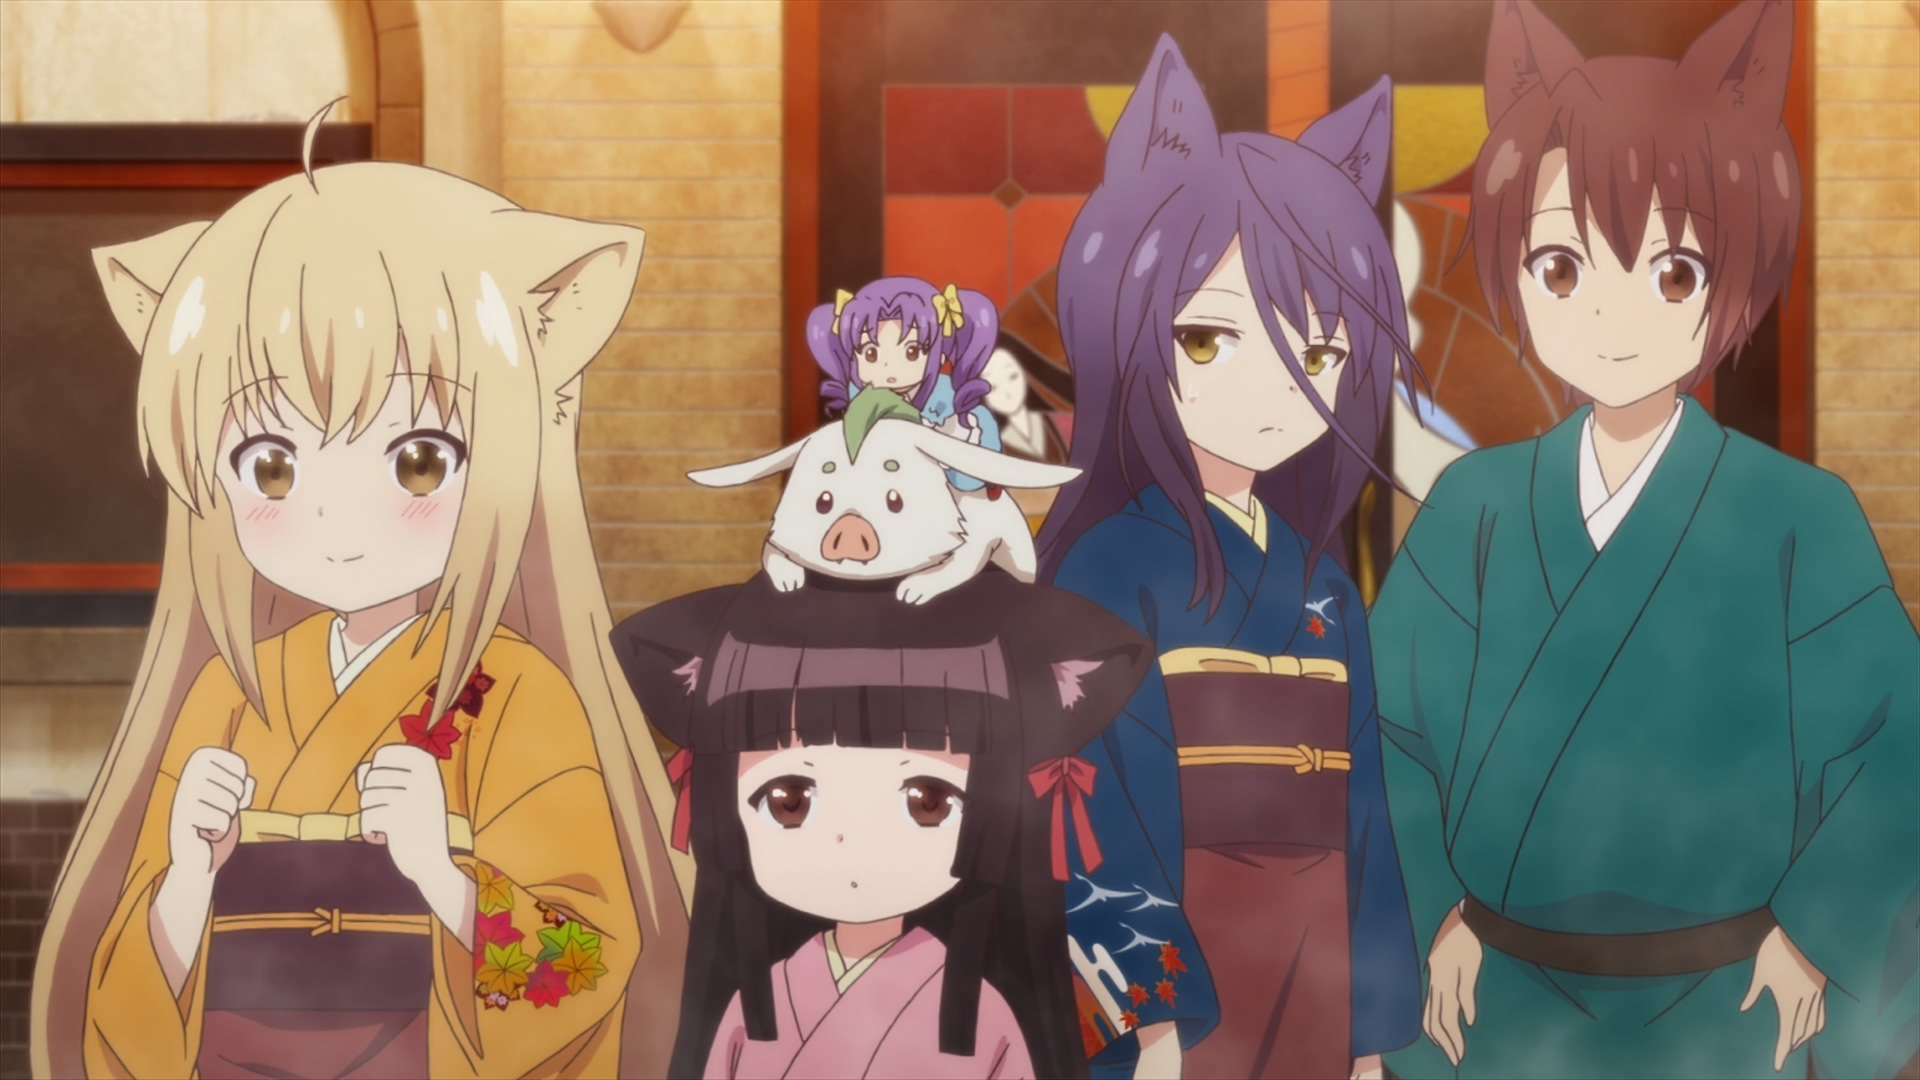枣: (1365, 1, 1920, 1080)
柚: (26, 98, 696, 1080)
樱: (611, 558, 1155, 1080)
瓜之介: (684, 386, 1083, 607)
皋: (1033, 34, 1423, 1080)
阿菊: (807, 276, 1004, 502)
